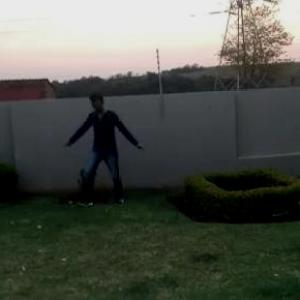land: (63, 98, 144, 211)
